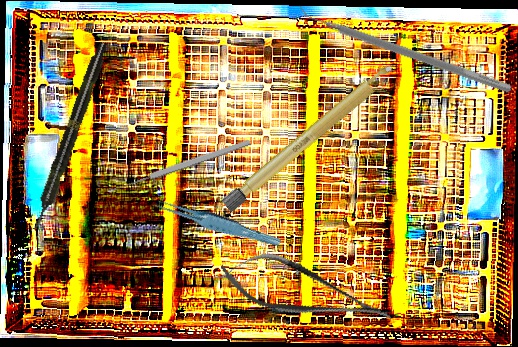Handpiece: (27, 40, 112, 233)
Micro Scissor: (213, 239, 400, 345)
Scalpel Handle: (221, 59, 399, 214)
Spatula Surgical: (292, 1, 516, 94)
Surgical Spoon: (106, 137, 252, 196)
Tissue Forceps: (151, 188, 282, 257)
